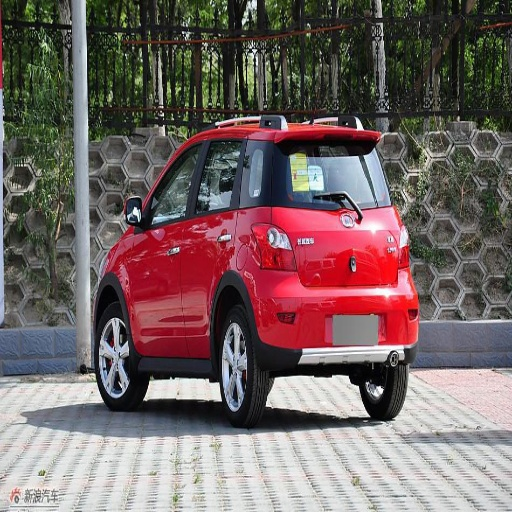back_bumper: (260, 270, 416, 362)
back_glass: (249, 141, 380, 208)
trunk: (243, 208, 399, 315)
